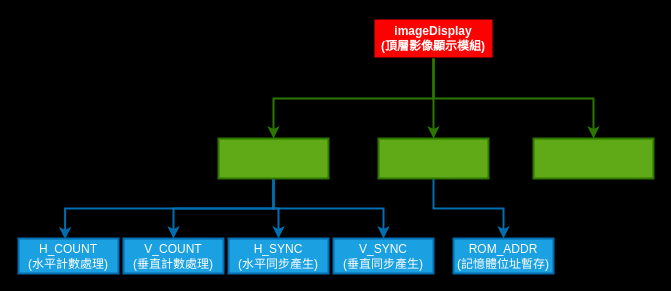
Image size: 671x291. Some labels were removed from this diagram. Here are the shapes that lost their labels. From the top down, the box of each, then its label:
(217, 137, 329, 179): vgaController
(377, 137, 489, 179): imageDisplay
(532, 137, 654, 179): u_blk_mem_gen_0 (區塊記憶體IP)
